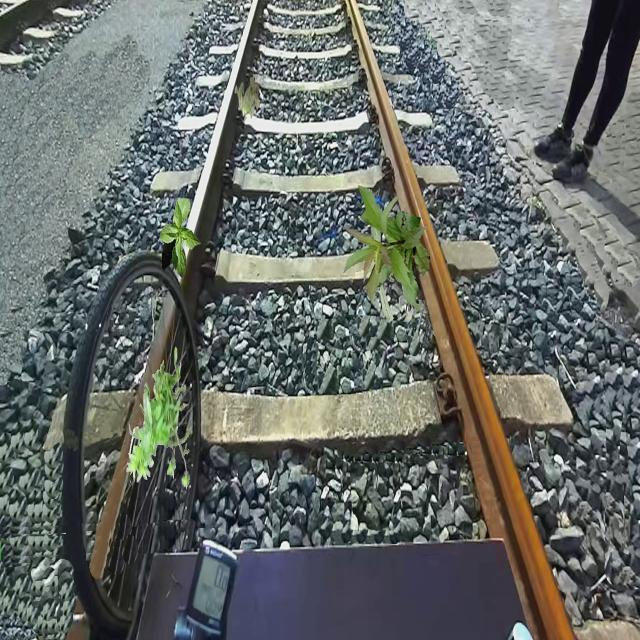Plant: (342, 185, 430, 315), (126, 347, 190, 490), (355, 214, 395, 324), (160, 198, 202, 278), (235, 77, 261, 120)
